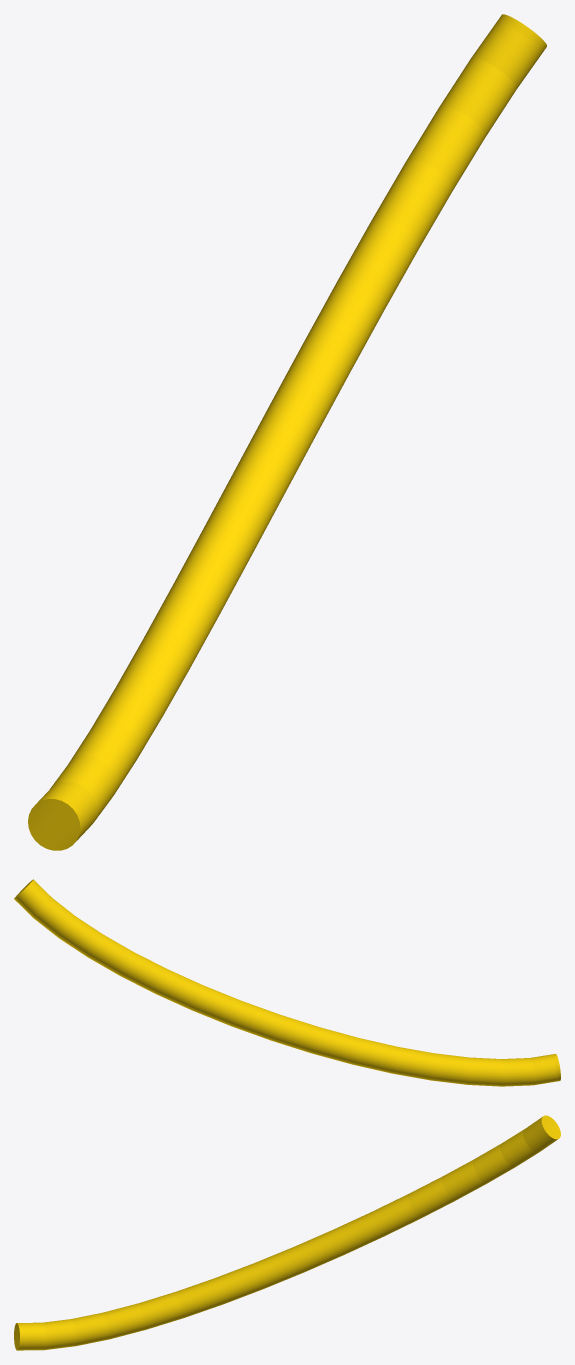
File: Event_420107950_track_51.fbx
3 renders of one model, top to bottom at view 1: azimuth 30°, elevation 25°; view 2: azimuth 150°, elevation 25°; view 3: azimuth 330°, elevation 25°, orthographic. The views are drawn at different scales.
Visible parts, largest first — view 1: Model; view 2: Model; view 3: Model.
Part boxes in pixels (box(x1,y1,x2,y2)): Model: box(28, 14, 546, 850); Model: box(14, 879, 560, 1086); Model: box(14, 1115, 560, 1350).
Bounding box in the file's own units: 0.6693 × 0.3475 × 0.4672.
